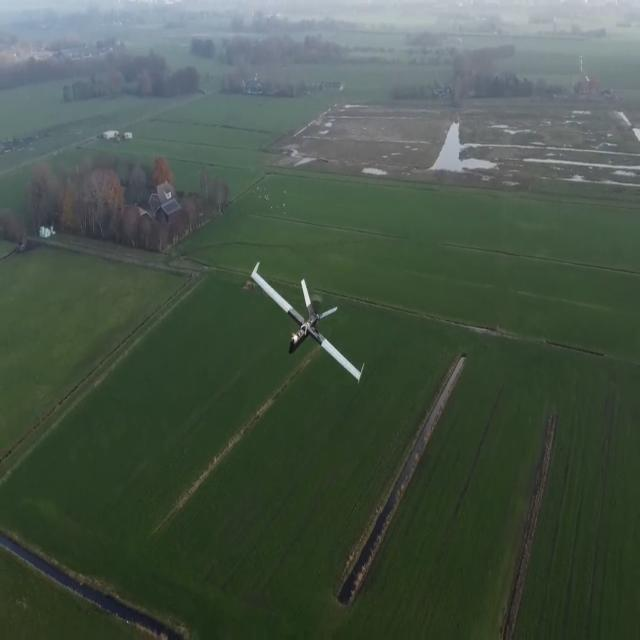iha: (283, 295, 335, 353)
